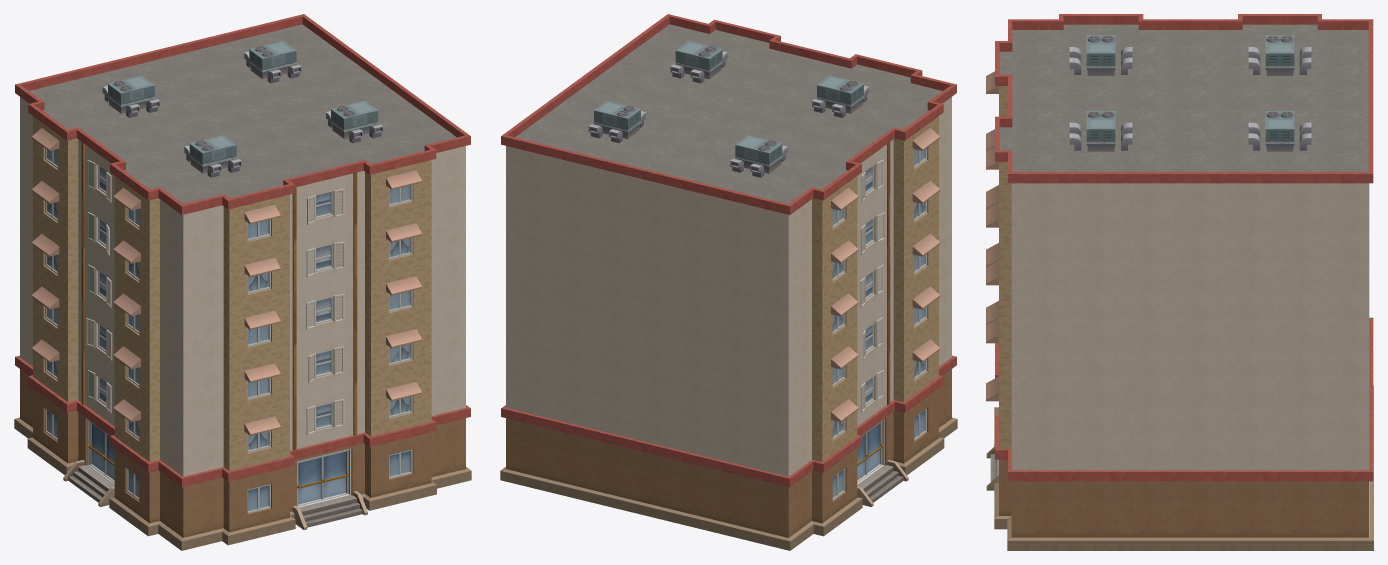
The model's file is Building_8_1.glb.
3 renders of one model, left to right at view 1: azimuth 30°, elevation 25°; view 2: azimuth 150°, elevation 25°; view 3: azimuth 270°, elevation 25°, orthographic. The views are drawn at different scales.
Visible parts, largest first — view 1: Building_8_Roof; view 2: Building_8_Roof; view 3: Building_8_Roof.
Part boxes in pixels (box(x1,y1,x2,y2)): Building_8_Roof: box(14, 14, 471, 550); Building_8_Roof: box(500, 14, 957, 550); Building_8_Roof: box(986, 14, 1373, 550).
Size of the model in its own units: 15.18 by 16.95 by 15.18.
13 materials, 13 textured.
